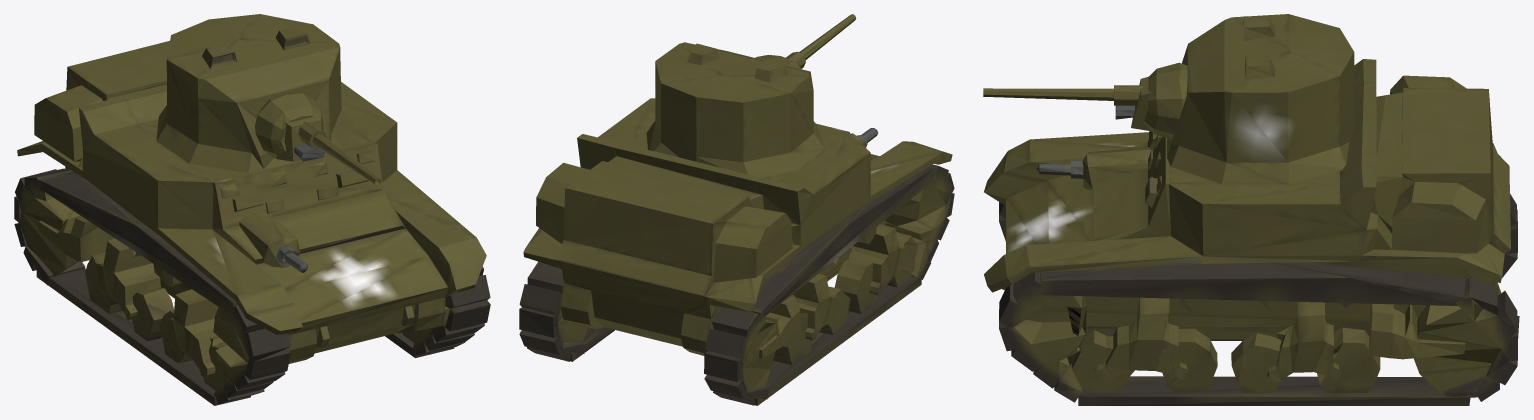
Rendered from bulge_us_cavalry_1.glb.
3 views of the same model, side by side, from view 1: azimuth 30°, elevation 25°; view 2: azimuth 150°, elevation 25°; view 3: azimuth 270°, elevation 25° (orthographic). The views are drawn at different scales.
Visible parts, largest first — view 1: geometry_0; view 2: geometry_0; view 3: geometry_0.
Boxes of the visible parts, x1=… form: geometry_0: x1=14, y1=14, x2=490, y2=405; geometry_0: x1=519, y1=14, x2=954, y2=405; geometry_0: x1=983, y1=14, x2=1519, y2=405.
Size of the model in its own units: 0.3919 by 0.414 by 0.6634.
1 material, 1 textured.
